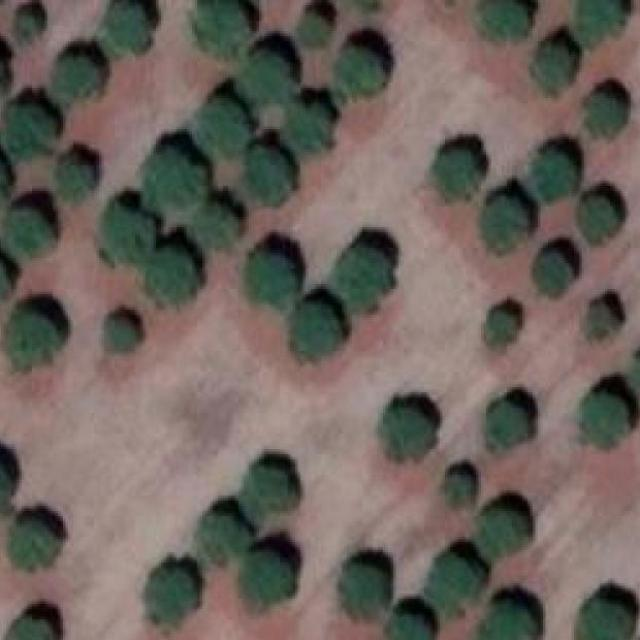Tree: (140, 145, 202, 225), (238, 462, 302, 524), (287, 300, 347, 360), (189, 98, 249, 158), (238, 44, 296, 106), (421, 550, 478, 612), (276, 95, 334, 155), (96, 202, 151, 264), (0, 308, 55, 370), (139, 562, 194, 624), (240, 555, 302, 607), (148, 248, 199, 310), (192, 506, 244, 566), (337, 248, 388, 308), (481, 193, 531, 253), (3, 103, 60, 155), (246, 150, 295, 210), (333, 44, 385, 99), (189, 3, 244, 55), (574, 0, 631, 50), (337, 560, 386, 618), (576, 384, 622, 444), (238, 251, 292, 302), (102, 0, 151, 54), (569, 598, 629, 640), (528, 152, 579, 201), (11, 521, 61, 568), (581, 90, 628, 139), (385, 410, 432, 459), (8, 207, 53, 258), (478, 506, 524, 555), (199, 201, 241, 253), (478, 604, 538, 640), (429, 150, 471, 199), (50, 55, 99, 96), (482, 0, 528, 41), (533, 251, 574, 297), (383, 606, 435, 640), (55, 155, 91, 204), (579, 299, 618, 344), (579, 196, 620, 238), (535, 46, 571, 91), (488, 400, 524, 445), (101, 315, 137, 354), (292, 13, 326, 52), (483, 313, 517, 349), (0, 454, 17, 524), (7, 616, 56, 640), (12, 3, 40, 39), (445, 473, 474, 504), (0, 255, 15, 309), (0, 149, 10, 211), (629, 350, 640, 392), (0, 46, 6, 106)
